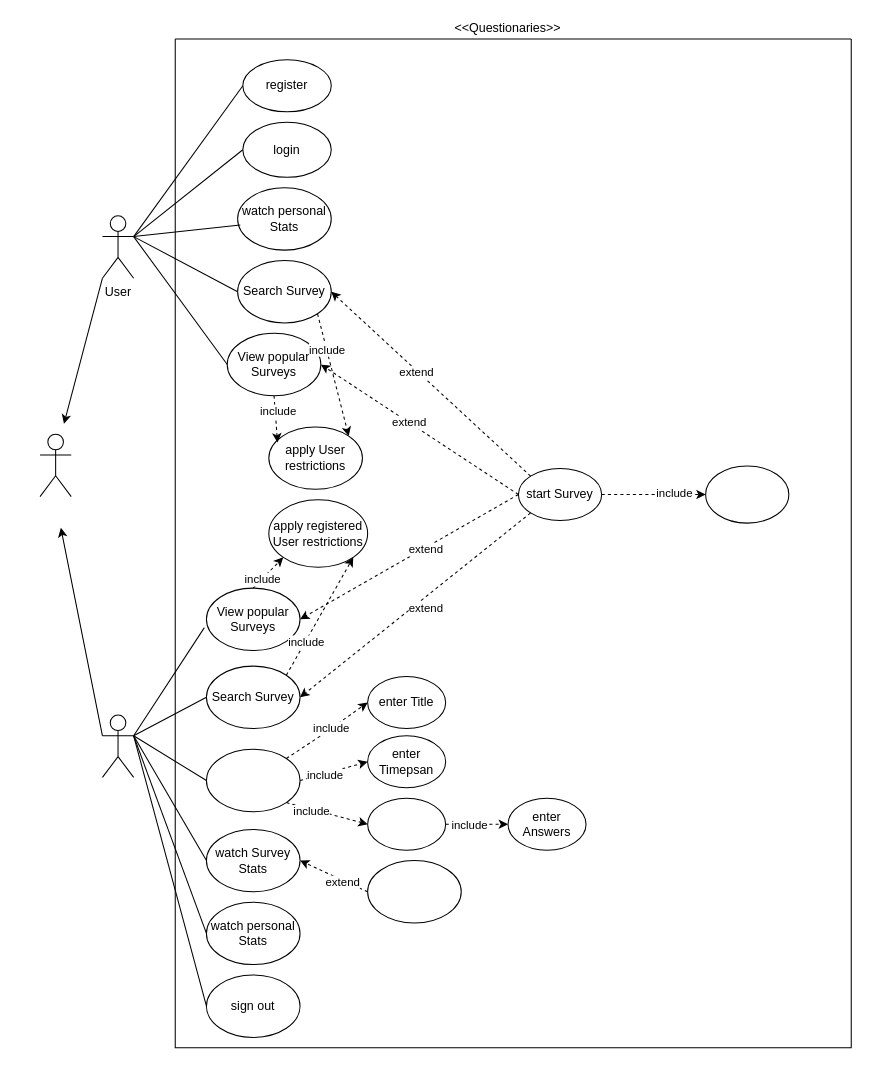
This 869x1066 diagram has some shape labels left out. The centre of each missing label's shape, as x and y in pixels:
"Abstract User" goes at (x=55, y=465).
"answer Questions" goes at (x=747, y=494).
"Create Survey" goes at (x=252, y=780).
"enter Questions" goes at (x=406, y=823).
"Registered User" goes at (x=117, y=745).
"show Stats for specific Survey" goes at (x=414, y=891).
